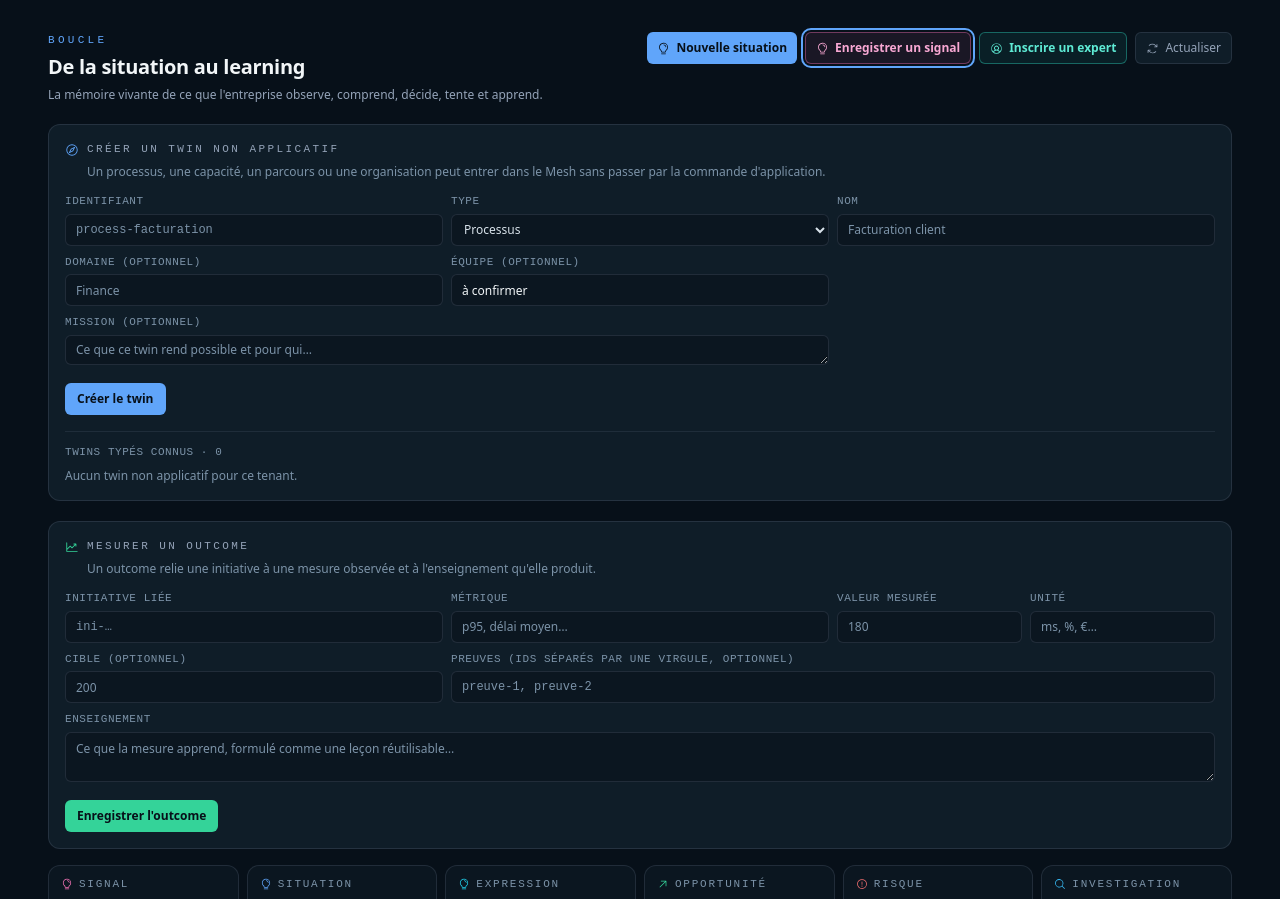
Test: enregistre un signal global, le sélectionne et affiche une chaîne sans amont
The width and height of the screenshot is (1280, 899).
Later steps or results of the test are not shown.
Click the button with test id "boucle-nouveau-signal". click: (888, 48)
box: left=805, top=32, right=971, bottom=64
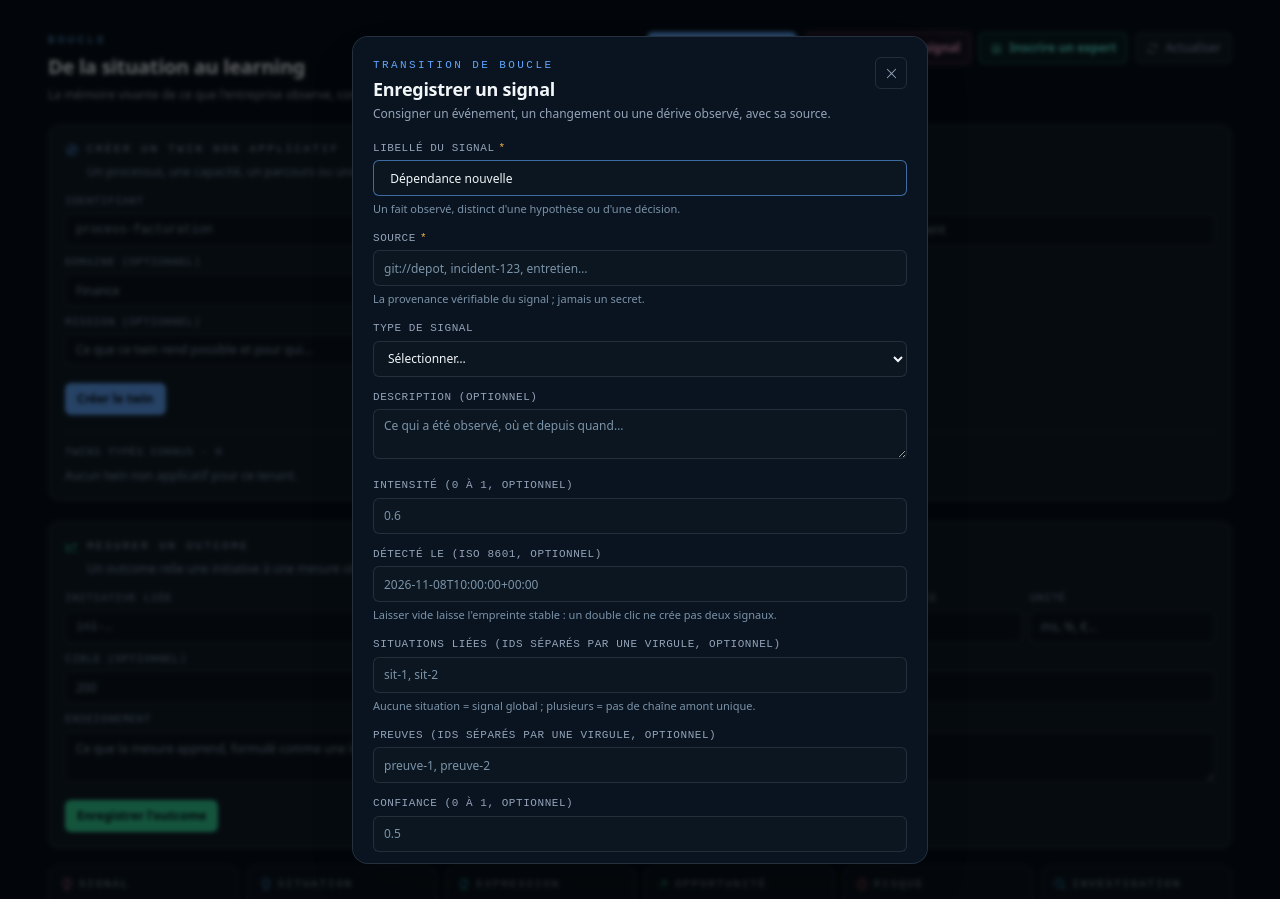
Check: the dialog with test id "boucle-transition-modale" is shown, box left=352, top=36, right=928, bottom=864
Check: the field with test id "boucle-transition-libelle" is shown, box left=373, top=160, right=907, bottom=196
Check: the field with test id "boucle-transition-source" is shown, box left=373, top=250, right=907, bottom=286
